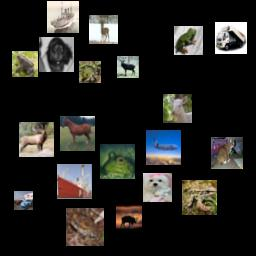airplane: (146, 130, 181, 165)
automobile: (14, 191, 33, 210)
cat: (211, 137, 243, 169)
deer: (19, 122, 54, 157), (89, 15, 118, 44), (163, 94, 192, 123), (116, 205, 142, 231), (117, 56, 139, 78)
dog: (39, 37, 74, 72), (143, 173, 172, 202)
frog: (66, 208, 104, 246), (182, 180, 217, 215), (100, 144, 135, 179), (174, 26, 203, 55), (12, 51, 38, 77), (79, 61, 101, 83)
ship: (57, 164, 92, 199), (47, 1, 79, 33)
truck: (215, 22, 247, 54)
